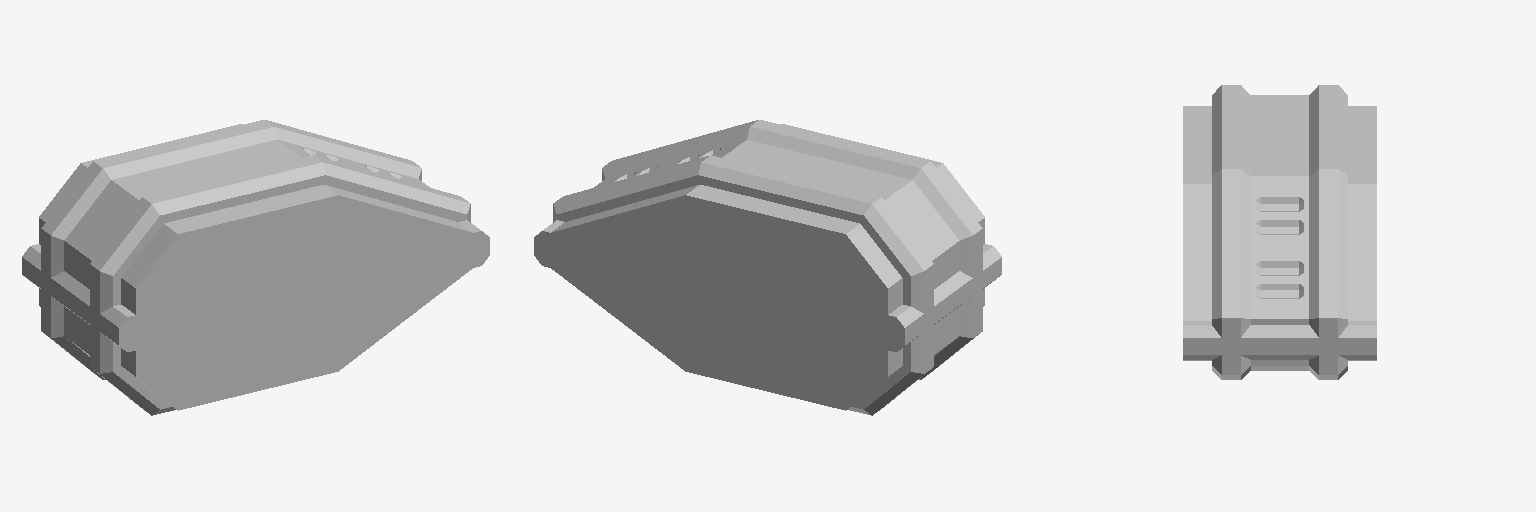
The model's file is Spacestation_Structure_Cockpit_Model_B_Center.obj.
The picture shows the model from 3 angles: view 1: azimuth 30°, elevation 25°; view 2: azimuth 150°, elevation 25°; view 3: azimuth 270°, elevation 25°; orthographic projection.
Visible parts, largest first — view 1: object1, object7, object4, object6, object2; view 2: object1, object4, object7, object6, object2; view 3: object6, object1, object4, object7, object2, object3, object5.
Boxes of the visible parts, x1=… form: object1: x1=39, y1=124, x2=472, y2=410; object7: x1=90, y1=155, x2=470, y2=415; object4: x1=41, y1=120, x2=421, y2=379; object6: x1=64, y1=140, x2=429, y2=356; object2: x1=22, y1=220, x2=489, y2=351; object1: x1=551, y1=124, x2=984, y2=410; object4: x1=553, y1=155, x2=933, y2=415; object7: x1=602, y1=120, x2=982, y2=379; object6: x1=594, y1=140, x2=959, y2=356; object2: x1=534, y1=220, x2=1001, y2=351; object6: x1=1251, y1=95, x2=1308, y2=370; object1: x1=1183, y1=106, x2=1376, y2=360; object4: x1=1309, y1=85, x2=1347, y2=379; object7: x1=1212, y1=85, x2=1250, y2=379; object2: x1=1183, y1=321, x2=1376, y2=359; object3: x1=1261, y1=268, x2=1298, y2=297; object5: x1=1261, y1=204, x2=1298, y2=233.
Bounding box in the file's own units: 2.2 × 1.2 × 1.